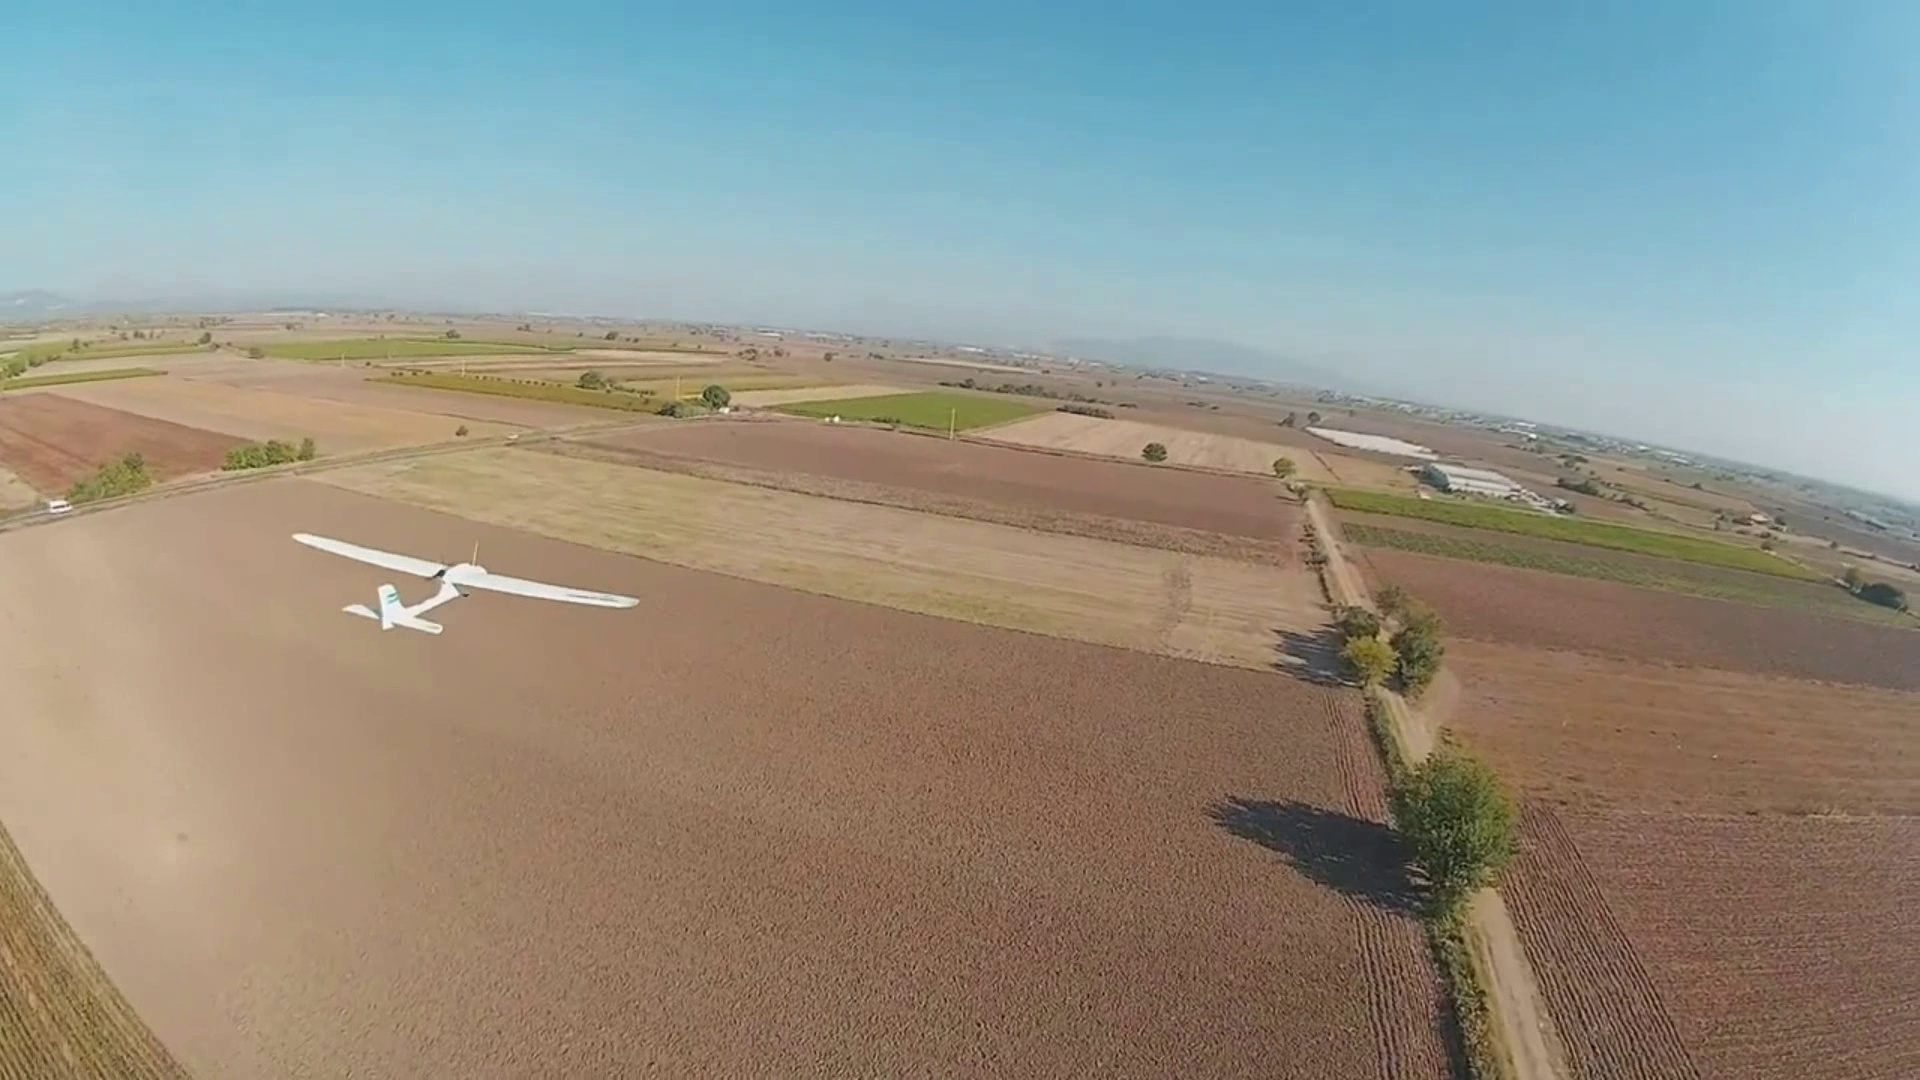airplane: (291, 531, 640, 636)
